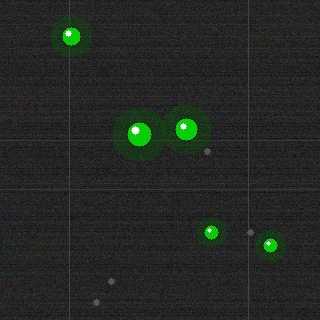green_normal: (125, 120, 153, 148), (173, 116, 199, 142), (60, 25, 82, 47), (261, 236, 279, 254), (202, 223, 220, 241)
